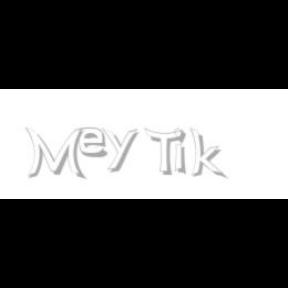M: (24, 128, 84, 180)
T: (144, 128, 184, 176)
e: (78, 128, 112, 158)
i: (174, 128, 190, 176)
k: (189, 128, 227, 180)
y: (102, 128, 142, 172)
